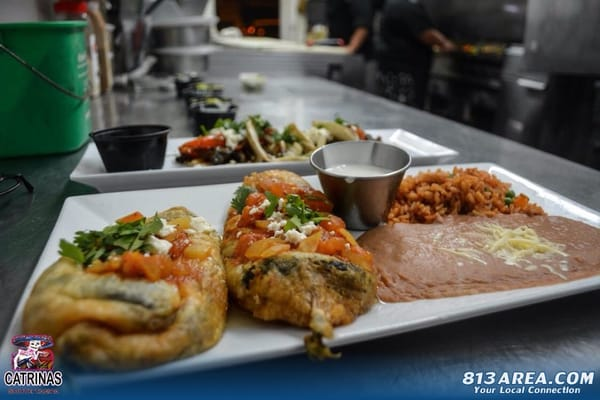soup: (24, 206, 229, 372), (220, 168, 380, 331)
sushi: (0, 17, 94, 160), (310, 138, 412, 231), (91, 123, 171, 172)
